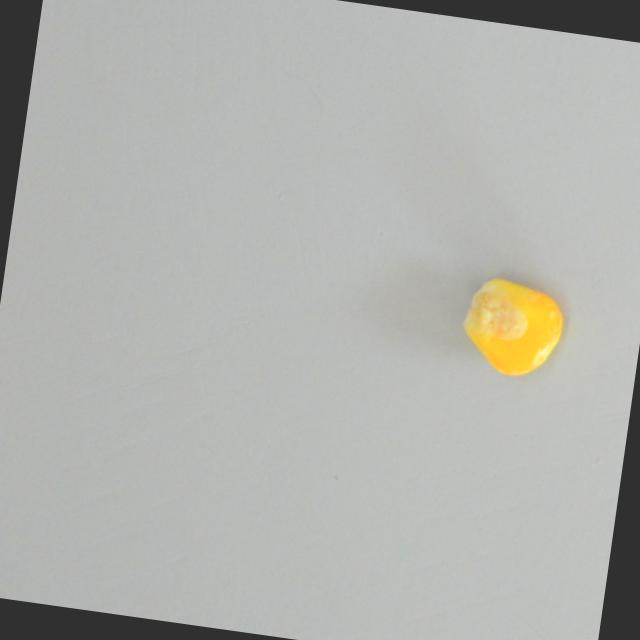pelicula: (451, 268, 576, 385)
